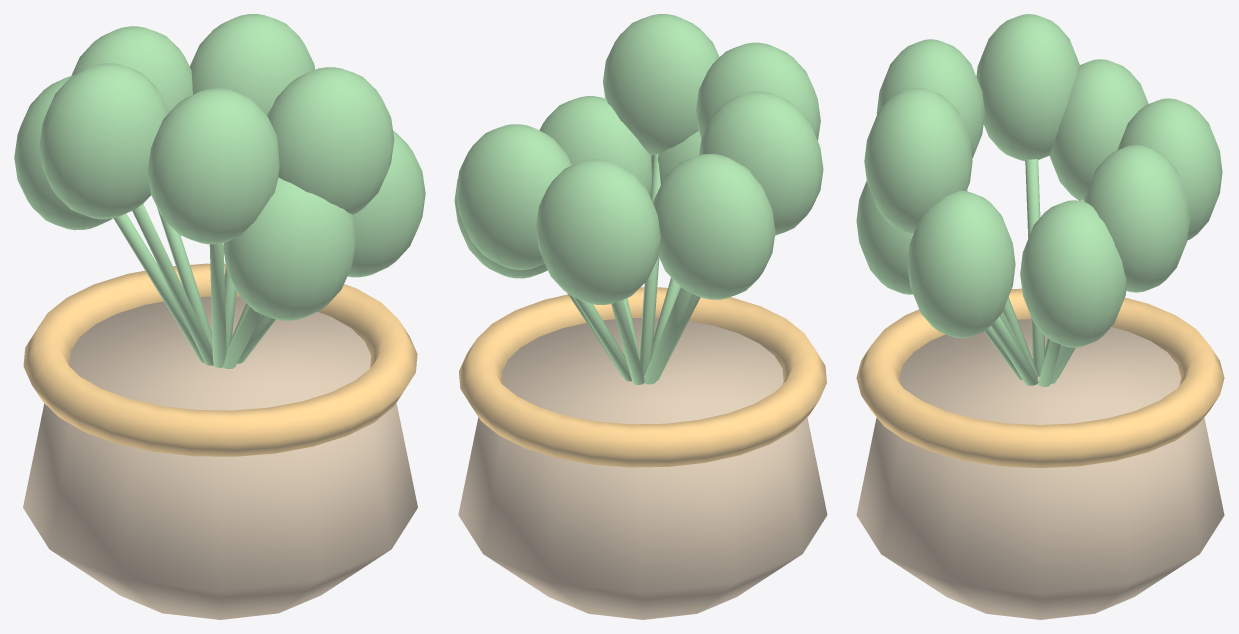
Rendered from castle_detail_planter_purified.glb.
The picture shows the model from 3 angles, left to right: view 1: azimuth 30°, elevation 25°; view 2: azimuth 150°, elevation 25°; view 3: azimuth 270°, elevation 25°; orthographic projection. The views are drawn at different scales.
Visible parts, largest first — view 1: castle_detail_planter_purified_surface; view 2: castle_detail_planter_purified_surface; view 3: castle_detail_planter_purified_surface.
Boxes of the visible parts, box(x1,y1,x2,y2) form: castle_detail_planter_purified_surface: box(14, 14, 425, 619); castle_detail_planter_purified_surface: box(454, 14, 827, 619); castle_detail_planter_purified_surface: box(856, 14, 1224, 619).
Bounding box in the file's own units: 1.78 × 2.55 × 1.7.
